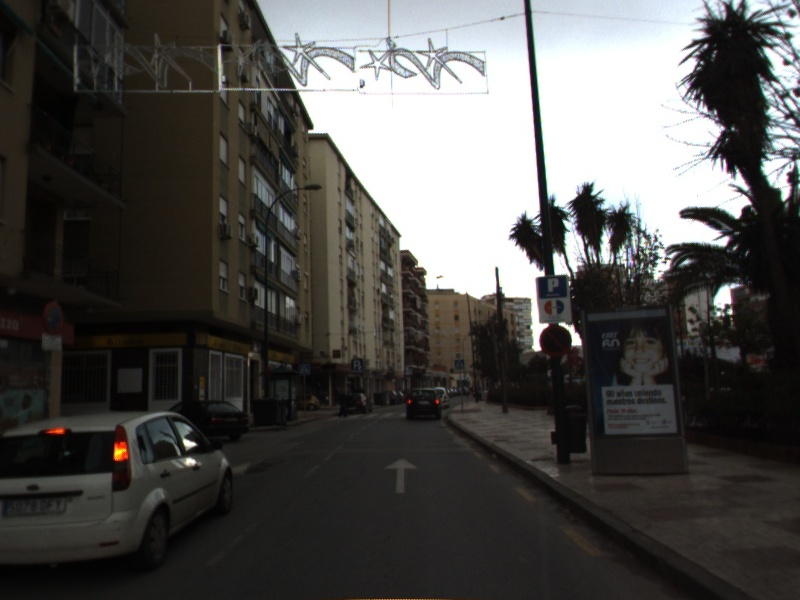STRAIGHT: (381, 453, 422, 496)
